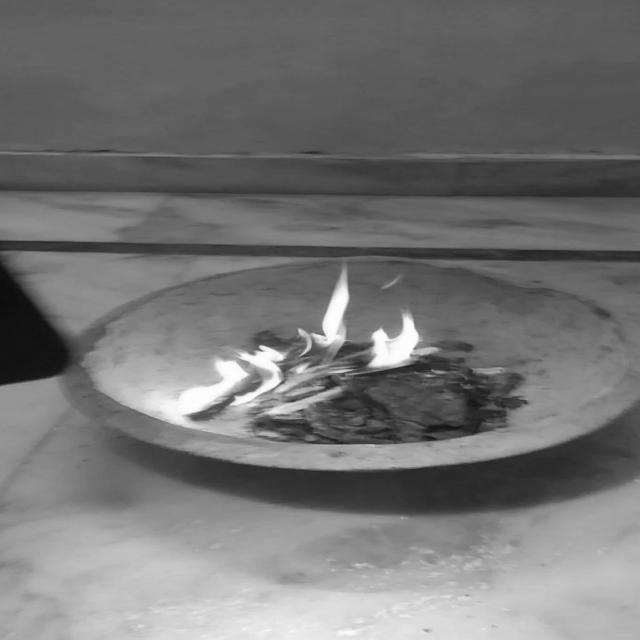smoke: (167, 270, 442, 415)
